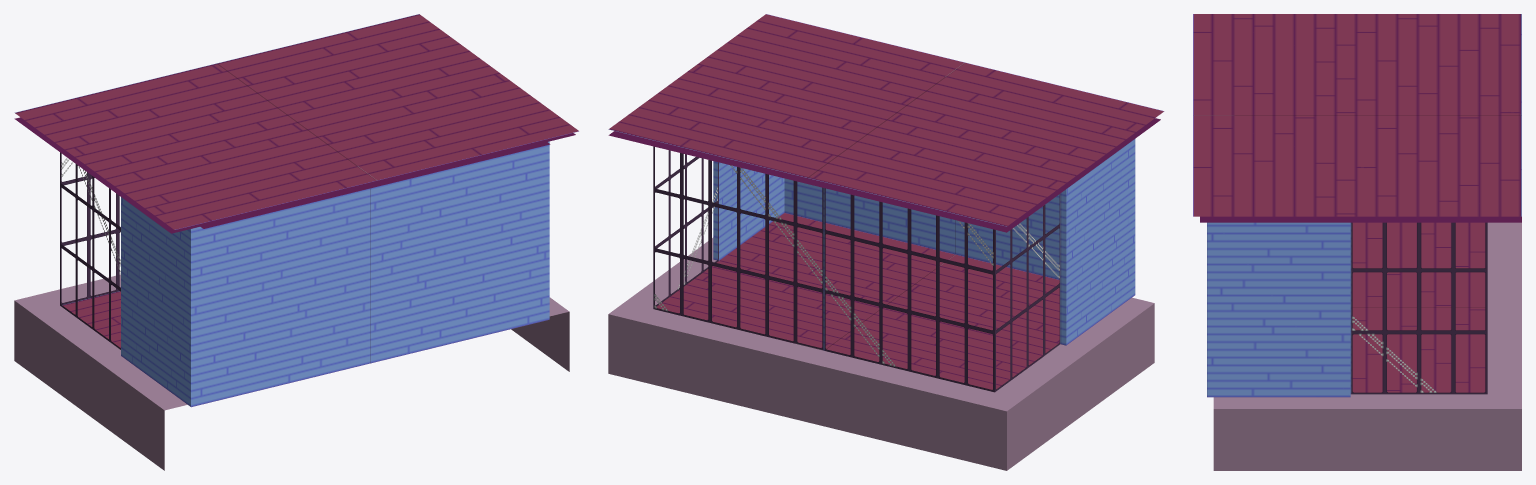
File: signal_box.obj
The picture shows the model from 3 angles, left to right: view 1: azimuth 30°, elevation 25°; view 2: azimuth 150°, elevation 25°; view 3: azimuth 270°, elevation 25°; orthographic projection. The views are drawn at different scales.
Parts seen in each view (by area): view 1: Cube; view 2: Cube; view 3: Cube.
Boxes of the visible parts, x1=… form: Cube: x1=14, y1=14, x2=578, y2=470; Cube: x1=608, y1=14, x2=1164, y2=470; Cube: x1=1193, y1=14, x2=1521, y2=470.
Size of the model in its own units: 7 by 4.1 by 4.8.
1 material, 1 textured.
